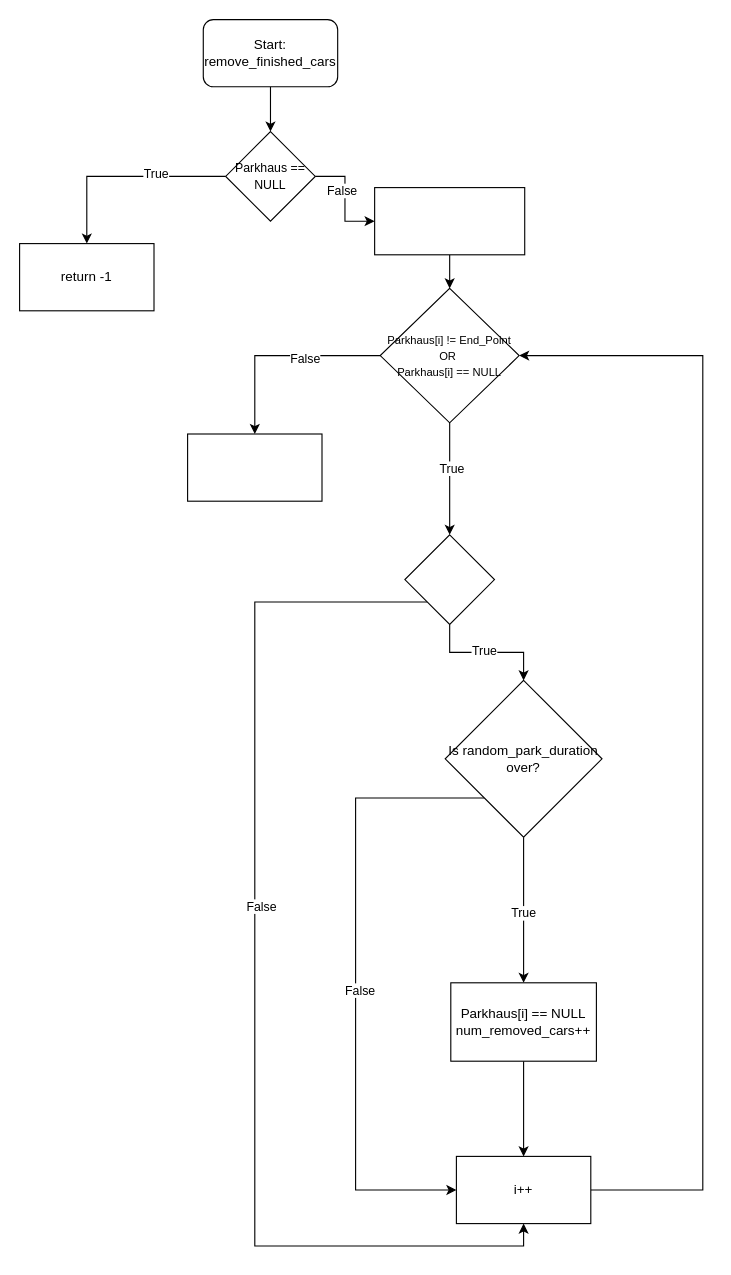
The diagram is 731 pixels wide and 1275 high, and some of its shapes have lost their labels. Here are the shapes that lost their labels. From the top down, the centre of each, then its label:
[449,220]: num_removed_cars = 0 i = 0
[254,467]: return num_removed_cars
[449,579]: Parkhaus[i] != NULL
